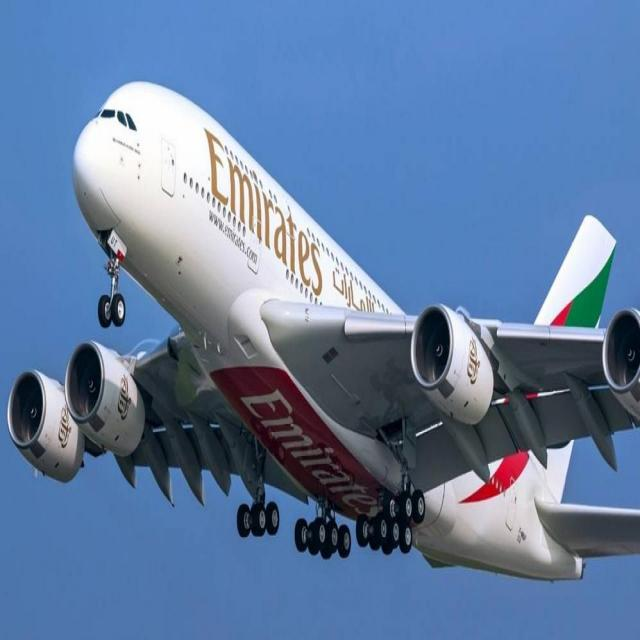A380: (8, 75, 640, 585)
